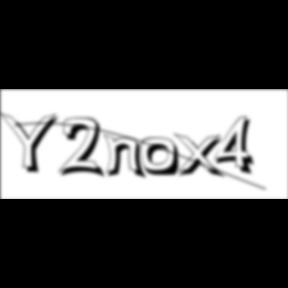2: (59, 117, 109, 181)
4: (214, 115, 262, 179)
Y: (0, 110, 66, 176)
n: (104, 132, 150, 181)
o: (141, 137, 183, 179)
x: (174, 132, 230, 181)
